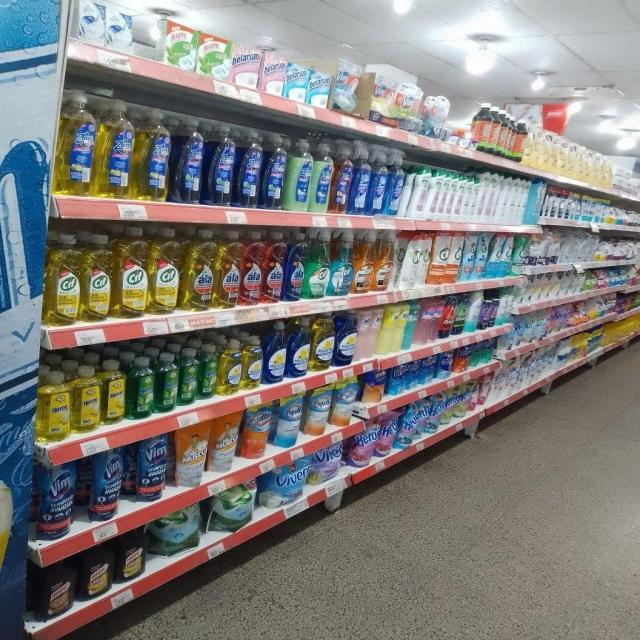ala_conc_amarillo: (183, 228, 214, 312), (216, 230, 240, 309)
ala_conc_azul: (285, 232, 304, 302)
ala_conc_rojo: (241, 231, 263, 306), (264, 232, 284, 304)
ala_crem_blanco: (306, 384, 332, 436)
cif_conc_bot_amarilla: (46, 232, 80, 326), (114, 225, 148, 319), (149, 227, 181, 315), (82, 232, 112, 323)
magistral_con_amarillo: (218, 338, 242, 395), (311, 312, 333, 372), (242, 335, 262, 389)
magistral_con_azul: (264, 320, 286, 384), (288, 316, 310, 378), (335, 310, 356, 366)
zorro: (286, 138, 310, 212), (312, 140, 332, 213)
